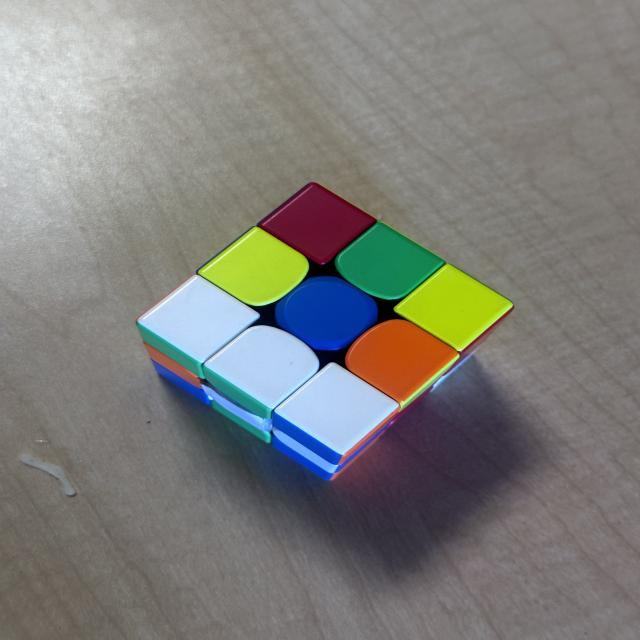sticker: (270, 364, 400, 474), (135, 276, 260, 379), (202, 326, 321, 423), (258, 182, 378, 268), (395, 265, 513, 352), (343, 319, 457, 404), (197, 226, 310, 306), (334, 222, 442, 302), (274, 276, 379, 352)
